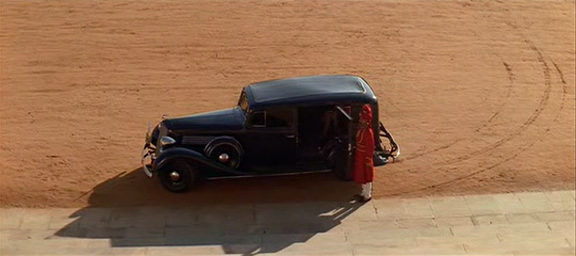els: (1, 1, 576, 256)
face_es: (359, 116, 367, 126)
person: (351, 102, 375, 202)
